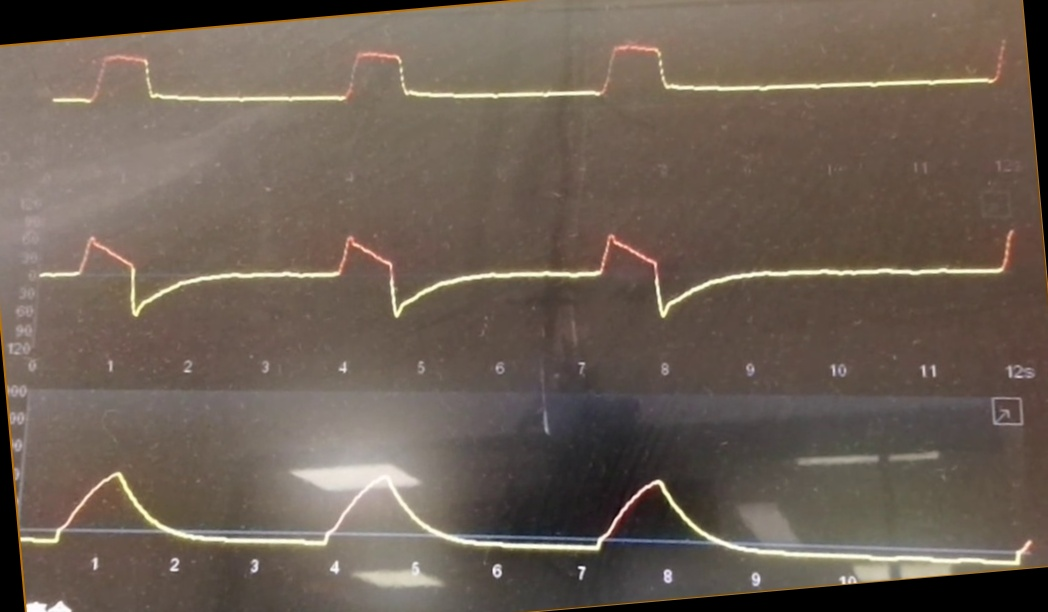Normal Flow: (42, 214, 1022, 342)
Normal Volume: (25, 456, 1032, 567)
